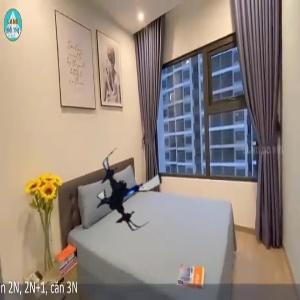drone: (87, 148, 171, 232)
